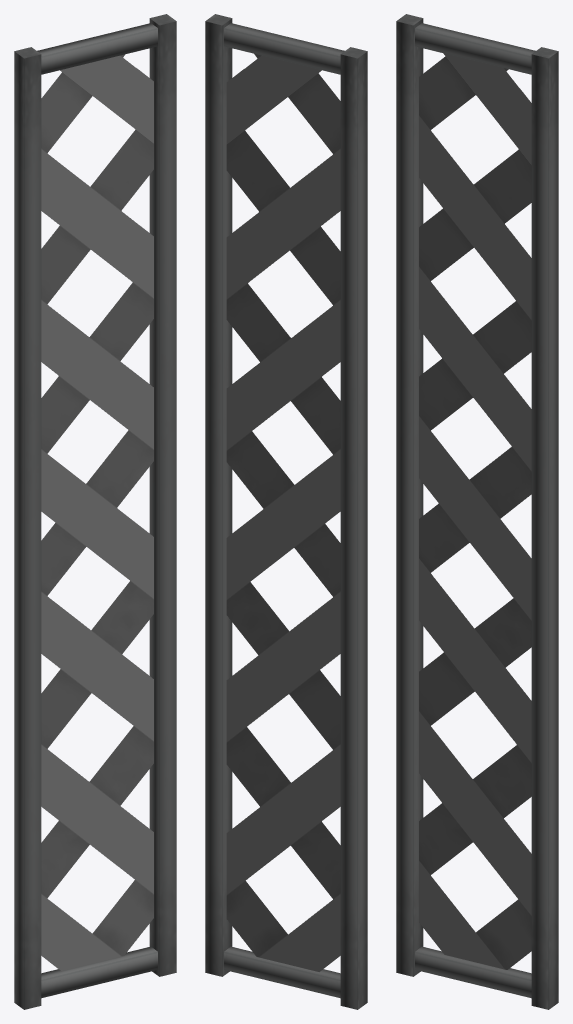
Rendered from mdlCLBeamFlat.fbx.
3 renders of one model, left to right at view 1: azimuth 30°, elevation 25°; view 2: azimuth 150°, elevation 25°; view 3: azimuth 330°, elevation 25°, orthographic.
Visible parts, largest first — view 1: Metal Beam Flat; view 2: Metal Beam Flat; view 3: Metal Beam Flat.
Part boxes in pixels (left/top/right/bottom): Metal Beam Flat: left=14, top=14, right=176, bottom=1009; Metal Beam Flat: left=205, top=14, right=367, bottom=1009; Metal Beam Flat: left=396, top=14, right=558, bottom=1009.
Size of the model in its own units: 467 by 2781 by 52.79.
